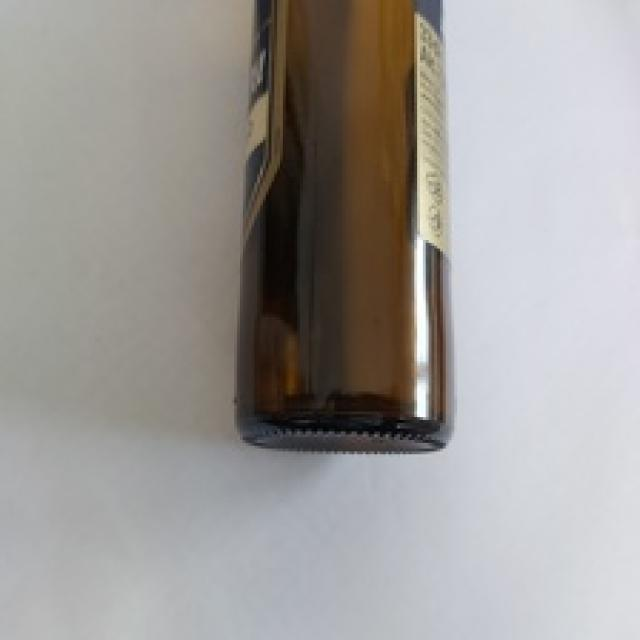Glass: (234, 0, 454, 451)
